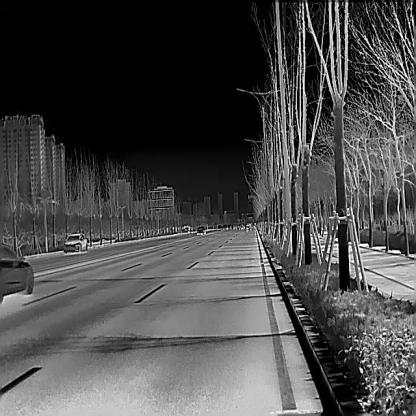car: (0, 244, 34, 301), (63, 232, 87, 253), (196, 225, 205, 234)
